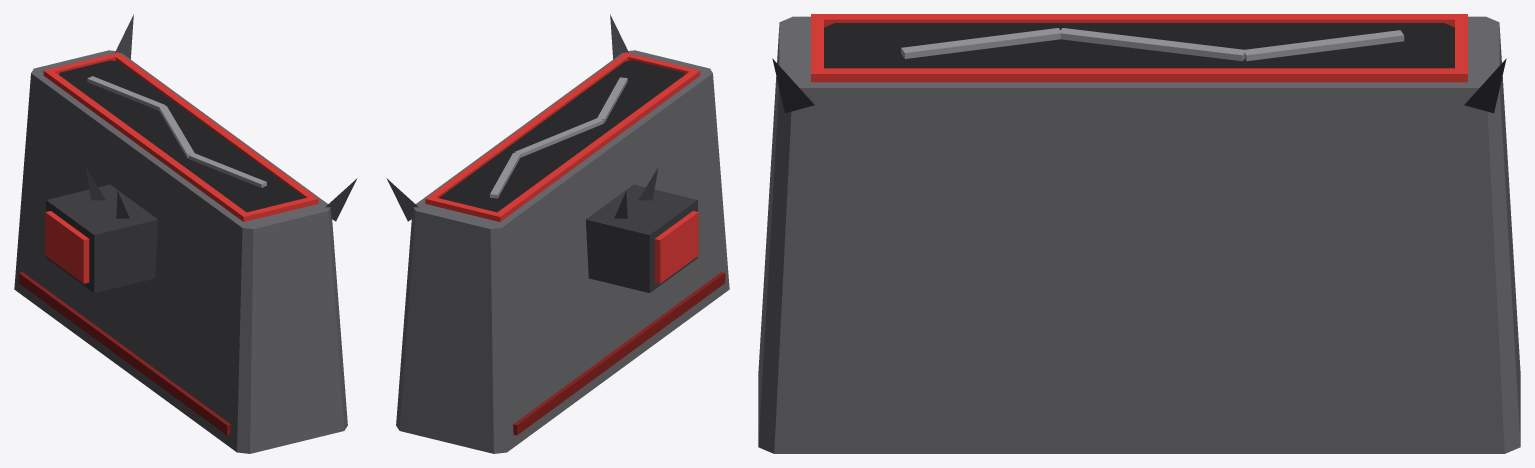
The model's file is void_monolith_right_e.obj.
The picture shows the model from 3 angles, left to right: view 1: azimuth 30°, elevation 25°; view 2: azimuth 150°, elevation 25°; view 3: azimuth 270°, elevation 25°; orthographic projection. The views are drawn at different scales.
Visible parts, largest first — view 1: void_monolith_right_e_0, void_monolith_right_e_1, void_monolith_right_e_5, void_monolith_right_e_7, void_monolith_right_e_15, void_monolith_right_e_6, void_monolith_right_e_14, void_monolith_right_e_12, void_monolith_right_e_2, void_monolith_right_e_4, void_monolith_right_e_3, void_monolith_right_e_13 (+2 smaller); view 2: void_monolith_right_e_0, void_monolith_right_e_1, void_monolith_right_e_5, void_monolith_right_e_7, void_monolith_right_e_15, void_monolith_right_e_6, void_monolith_right_e_14, void_monolith_right_e_3, void_monolith_right_e_13, void_monolith_right_e_12, void_monolith_right_e_4, void_monolith_right_e_2 (+2 smaller); view 3: void_monolith_right_e_0, void_monolith_right_e_1, void_monolith_right_e_14, void_monolith_right_e_15, void_monolith_right_e_3, void_monolith_right_e_4, void_monolith_right_e_2, void_monolith_right_e_11, void_monolith_right_e_10, void_monolith_right_e_12, void_monolith_right_e_13.
Part boxes in pixels (x1=…): void_monolith_right_e_0: x1=14, y1=50, x2=347, y2=453; void_monolith_right_e_1: x1=59, y1=60, x2=304, y2=212; void_monolith_right_e_5: x1=46, y1=184, x2=157, y2=293; void_monolith_right_e_7: x1=18, y1=272, x2=230, y2=435; void_monolith_right_e_15: x1=47, y1=72, x2=246, y2=218; void_monolith_right_e_6: x1=45, y1=211, x2=89, y2=283; void_monolith_right_e_14: x1=115, y1=55, x2=314, y2=197; void_monolith_right_e_12: x1=239, y1=196, x2=318, y2=221; void_monolith_right_e_2: x1=188, y1=153, x2=266, y2=187; void_monolith_right_e_4: x1=87, y1=76, x2=165, y2=110; void_monolith_right_e_3: x1=159, y1=106, x2=194, y2=158; void_monolith_right_e_13: x1=43, y1=52, x2=121, y2=78; void_monolith_right_e_0: x1=396, y1=50, x2=729, y2=453; void_monolith_right_e_1: x1=439, y1=60, x2=684, y2=212; void_monolith_right_e_5: x1=586, y1=184, x2=697, y2=293; void_monolith_right_e_7: x1=513, y1=272, x2=725, y2=435; void_monolith_right_e_15: x1=497, y1=72, x2=696, y2=218; void_monolith_right_e_6: x1=654, y1=211, x2=698, y2=283; void_monolith_right_e_14: x1=429, y1=55, x2=628, y2=197; void_monolith_right_e_3: x1=514, y1=118, x2=603, y2=157; void_monolith_right_e_13: x1=425, y1=196, x2=504, y2=221; void_monolith_right_e_12: x1=622, y1=52, x2=700, y2=78; void_monolith_right_e_4: x1=490, y1=153, x2=520, y2=198; void_monolith_right_e_2: x1=597, y1=77, x2=627, y2=122; void_monolith_right_e_0: x1=758, y1=16, x2=1520, y2=453; void_monolith_right_e_1: x1=824, y1=23, x2=1454, y2=68; void_monolith_right_e_14: x1=824, y1=68, x2=1454, y2=82; void_monolith_right_e_15: x1=824, y1=14, x2=1454, y2=27; void_monolith_right_e_3: x1=1059, y1=28, x2=1245, y2=61; void_monolith_right_e_4: x1=1244, y1=30, x2=1404, y2=61; void_monolith_right_e_2: x1=901, y1=28, x2=1061, y2=58; void_monolith_right_e_11: x1=1464, y1=58, x2=1506, y2=113; void_monolith_right_e_10: x1=772, y1=58, x2=814, y2=113; void_monolith_right_e_12: x1=811, y1=14, x2=823, y2=82; void_monolith_right_e_13: x1=1455, y1=14, x2=1467, y2=82.
Size of the model in its own units: 1.31 by 1.69 by 2.9.
